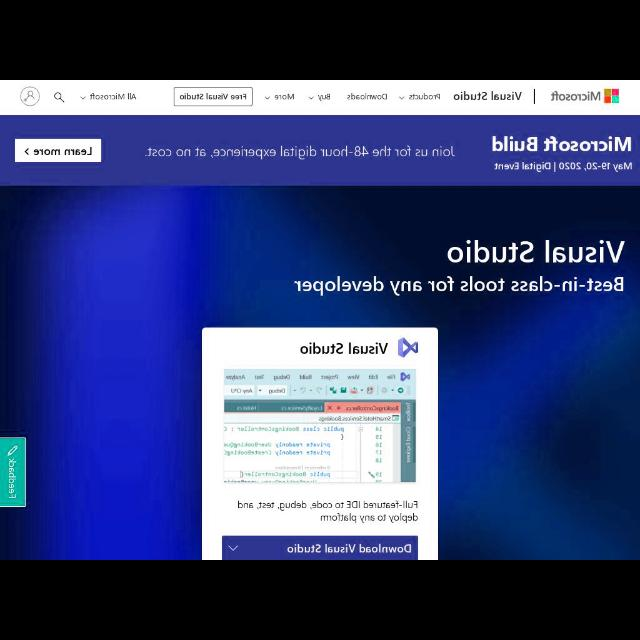icon: (20, 85, 42, 106), (53, 90, 67, 104), (228, 544, 238, 554), (22, 147, 30, 157), (79, 95, 85, 102), (264, 95, 270, 101), (400, 95, 404, 102), (310, 96, 314, 102)
iframe: (0, 116, 638, 184)
image: (224, 368, 416, 484), (550, 86, 620, 106), (398, 337, 418, 358)
spinner: (220, 536, 418, 558), (81, 91, 137, 103), (398, 91, 442, 102), (264, 91, 296, 102), (308, 91, 332, 102)
text: (293, 274, 627, 298), (447, 234, 628, 270), (238, 498, 418, 522), (144, 148, 452, 160), (491, 134, 633, 154), (286, 544, 412, 556), (494, 161, 634, 171), (300, 342, 388, 356), (453, 90, 521, 102), (181, 93, 247, 101), (34, 148, 94, 156), (348, 92, 388, 102), (89, 93, 135, 101), (274, 92, 296, 101), (408, 94, 440, 100), (318, 92, 330, 102)
textbutton: (12, 139, 102, 163), (173, 86, 253, 105)
toolbar: (1, 81, 637, 113)
